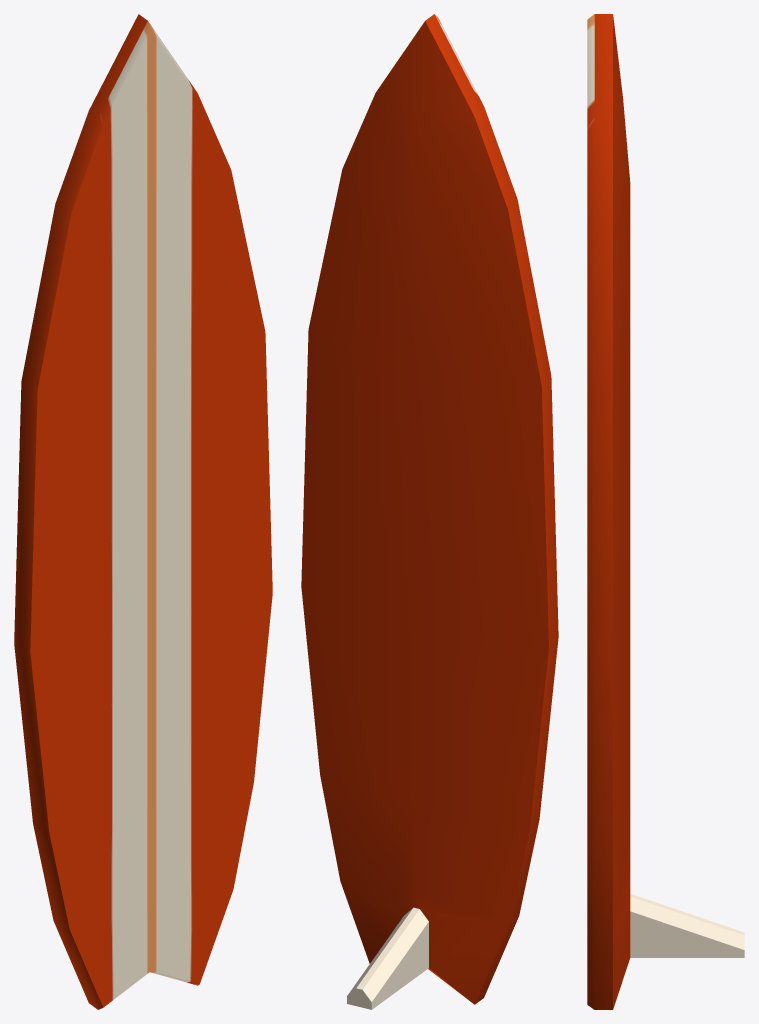
Rendered from OP-Beach_Surfboard.fbx.
The picture shows the model from 3 angles, left to right: view 1: azimuth 30°, elevation 25°; view 2: azimuth 150°, elevation 25°; view 3: azimuth 270°, elevation 25°; orthographic projection.
Visible parts, largest first — view 1: Cube; view 2: Cube; view 3: Cube.
Part boxes in pixels (x1=…): Cube: x1=14, y1=14, x2=272, y2=1009; Cube: x1=301, y1=14, x2=558, y2=1009; Cube: x1=587, y1=14, x2=744, y2=1009.
Bounding box in the file's own units: 200 × 110 × 750.
